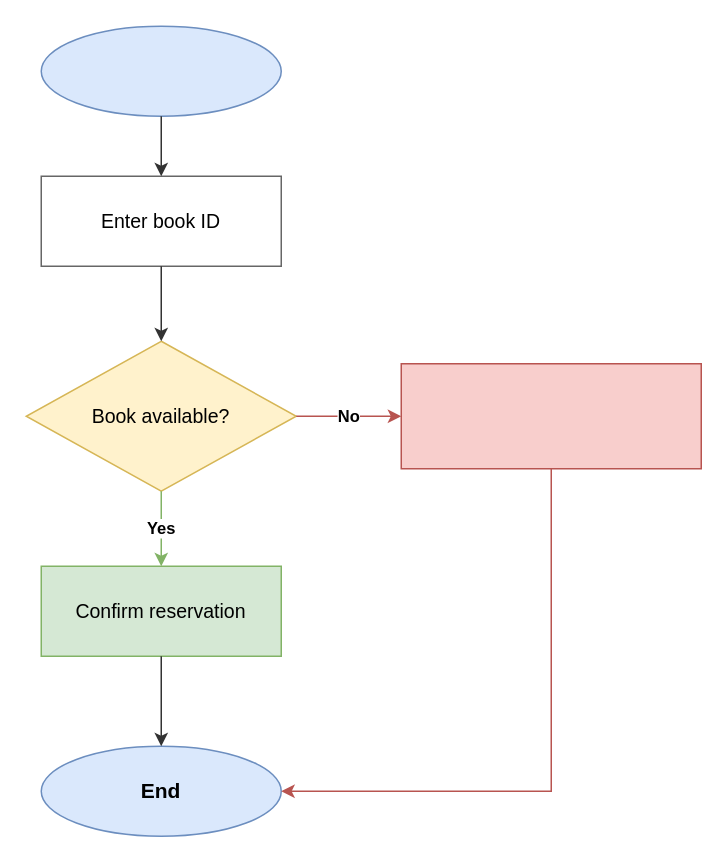
Some shapes in this 728 by 863 pixel diagram are drawn without their labels. The box of each missing label's shape, as (x1, y1, x2, y2) in pixels:
Show unavailable message: (400, 362, 701, 469)
Start: (40, 25, 281, 116)
